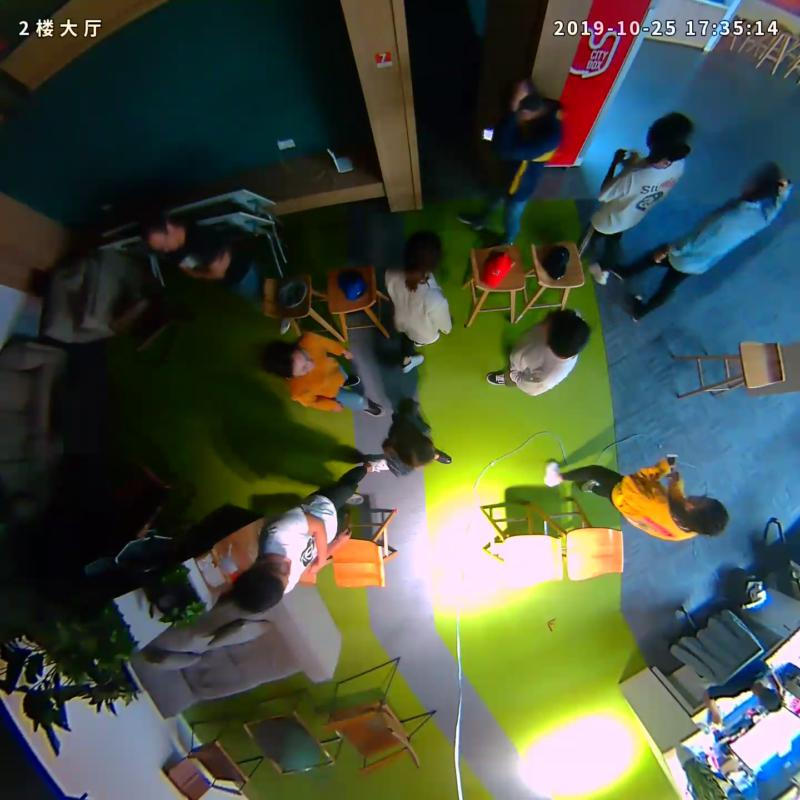head: (233, 557, 292, 612), (539, 308, 591, 359), (646, 112, 695, 160), (495, 75, 543, 124), (401, 226, 443, 276), (138, 211, 184, 256), (682, 494, 729, 537), (264, 339, 314, 378), (738, 162, 781, 204), (395, 427, 434, 468)
